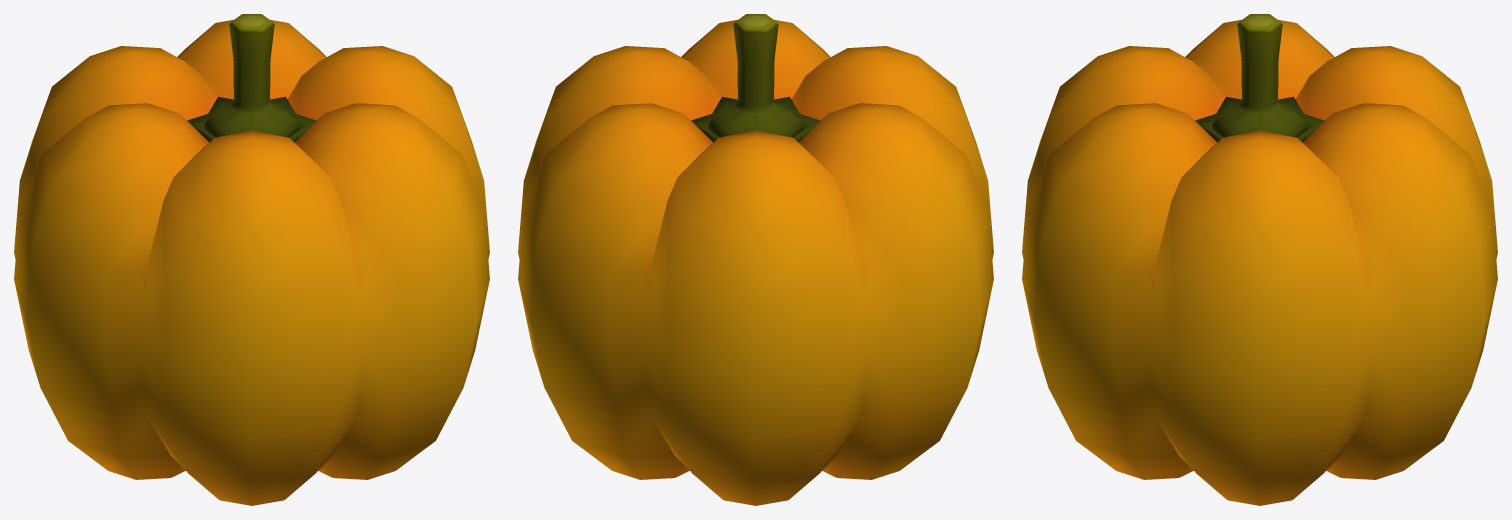
File: Pepper_Y.fbx
3 renders of one model, left to right at view 1: azimuth 30°, elevation 25°; view 2: azimuth 150°, elevation 25°; view 3: azimuth 270°, elevation 25°, orthographic.
Parts seen in each view (by area): view 1: Pepper_Y_Whole; view 2: Pepper_Y_Whole; view 3: Pepper_Y_Whole.
Boxes of the visible parts, x1,y1,x2,y2 form: Pepper_Y_Whole: (14, 14, 489, 505); Pepper_Y_Whole: (518, 14, 993, 505); Pepper_Y_Whole: (1022, 14, 1497, 505).
Bounding box in the file's own units: 2.3 × 2.08 × 2.11.
